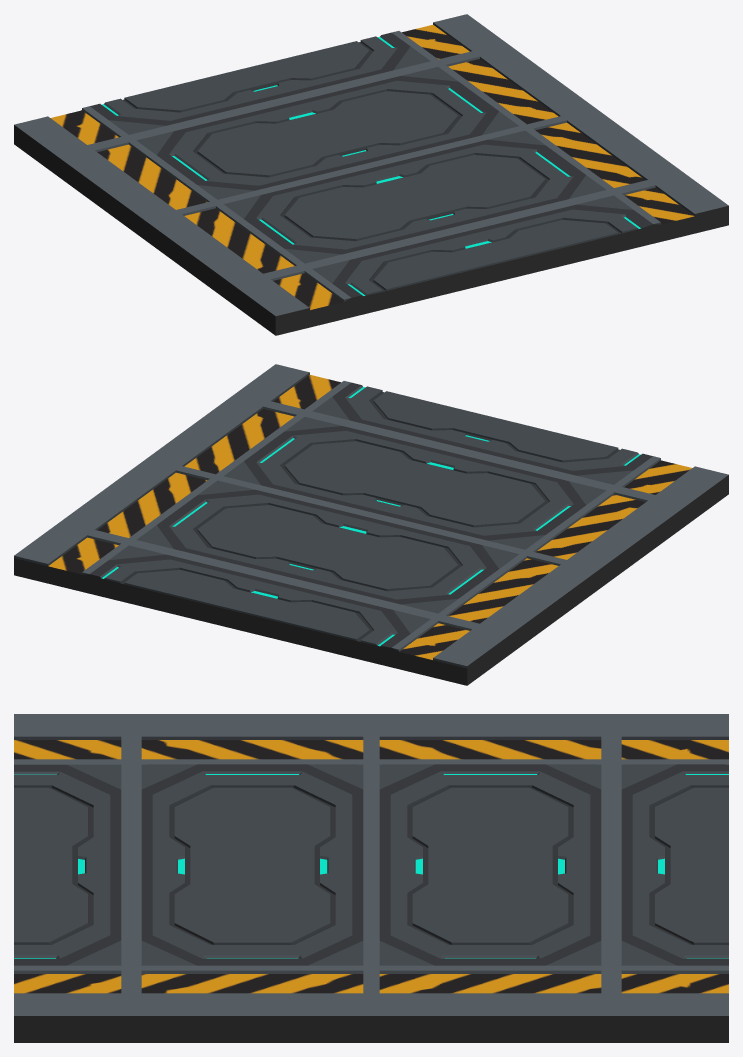
Rendered from SM_Bld_Floor_01.fbx.
The picture shows the model from 3 angles, top to bottom: view 1: azimuth 30°, elevation 25°; view 2: azimuth 150°, elevation 25°; view 3: azimuth 270°, elevation 25°; orthographic projection. The views are drawn at different scales.
Parts seen in each view (by area): view 1: SM_Bld_Floor_01; view 2: SM_Bld_Floor_01; view 3: SM_Bld_Floor_01.
Part boxes in pixels (box(x1,y1,x2,y2)): SM_Bld_Floor_01: box(14, 14, 728, 335); SM_Bld_Floor_01: box(14, 364, 728, 685); SM_Bld_Floor_01: box(14, 714, 728, 1042).
Size of the model in its own units: 500 by 20.68 by 500.
1 material, 1 textured.
